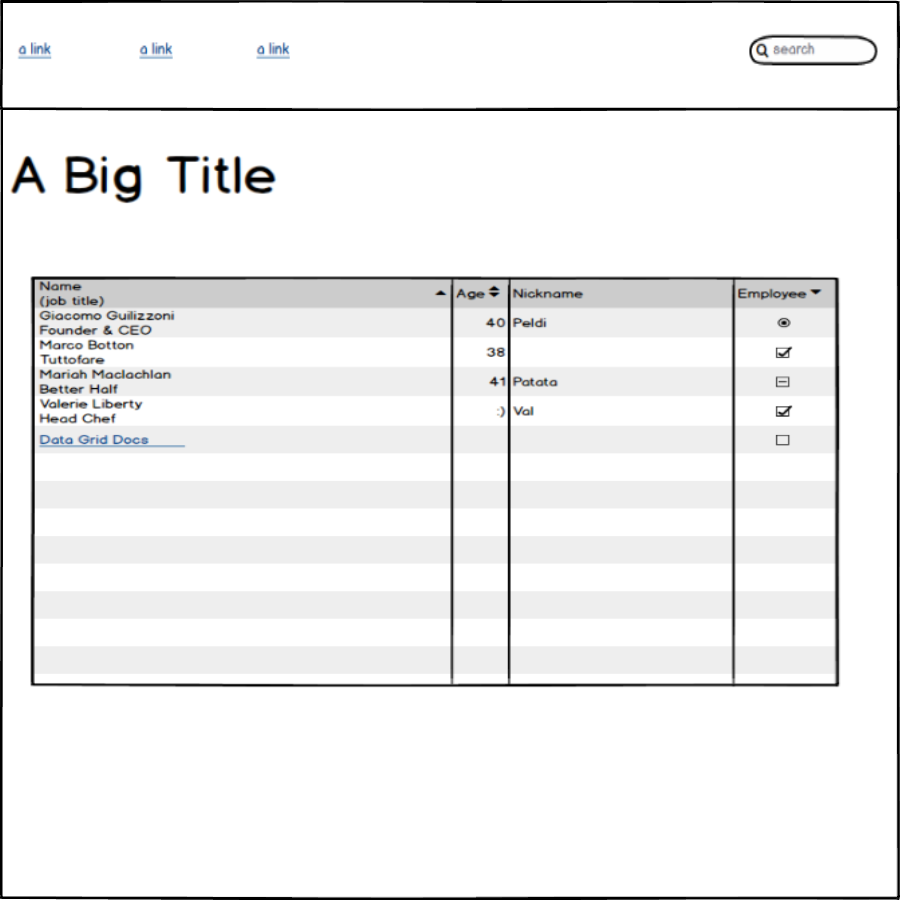h1: (9, 141, 293, 215)
navlink: (249, 32, 307, 73), (122, 32, 190, 66), (12, 33, 67, 69)
search: (744, 23, 882, 74)
table: (22, 269, 849, 695)
